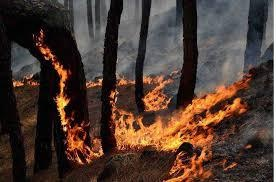fire: (11, 75, 39, 87)
